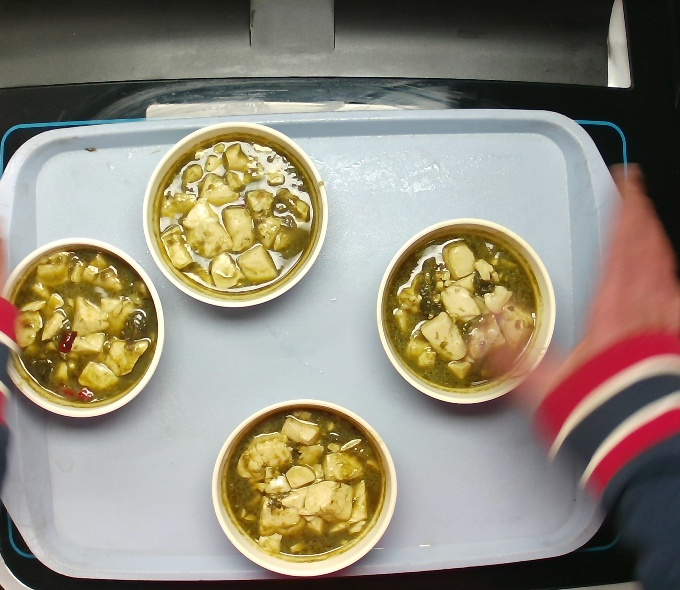wcq-SuanCaiDouFu: (150, 131, 320, 298), (220, 404, 390, 562), (381, 228, 540, 392), (7, 245, 160, 406)
